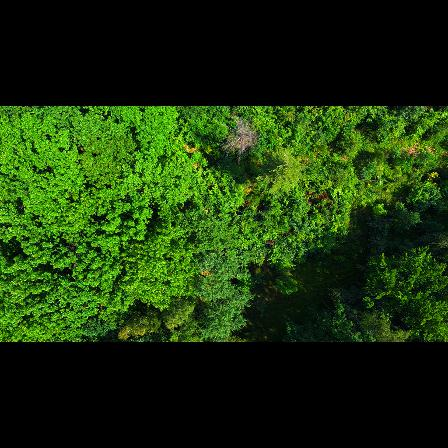Dead: (220, 116, 260, 160)
